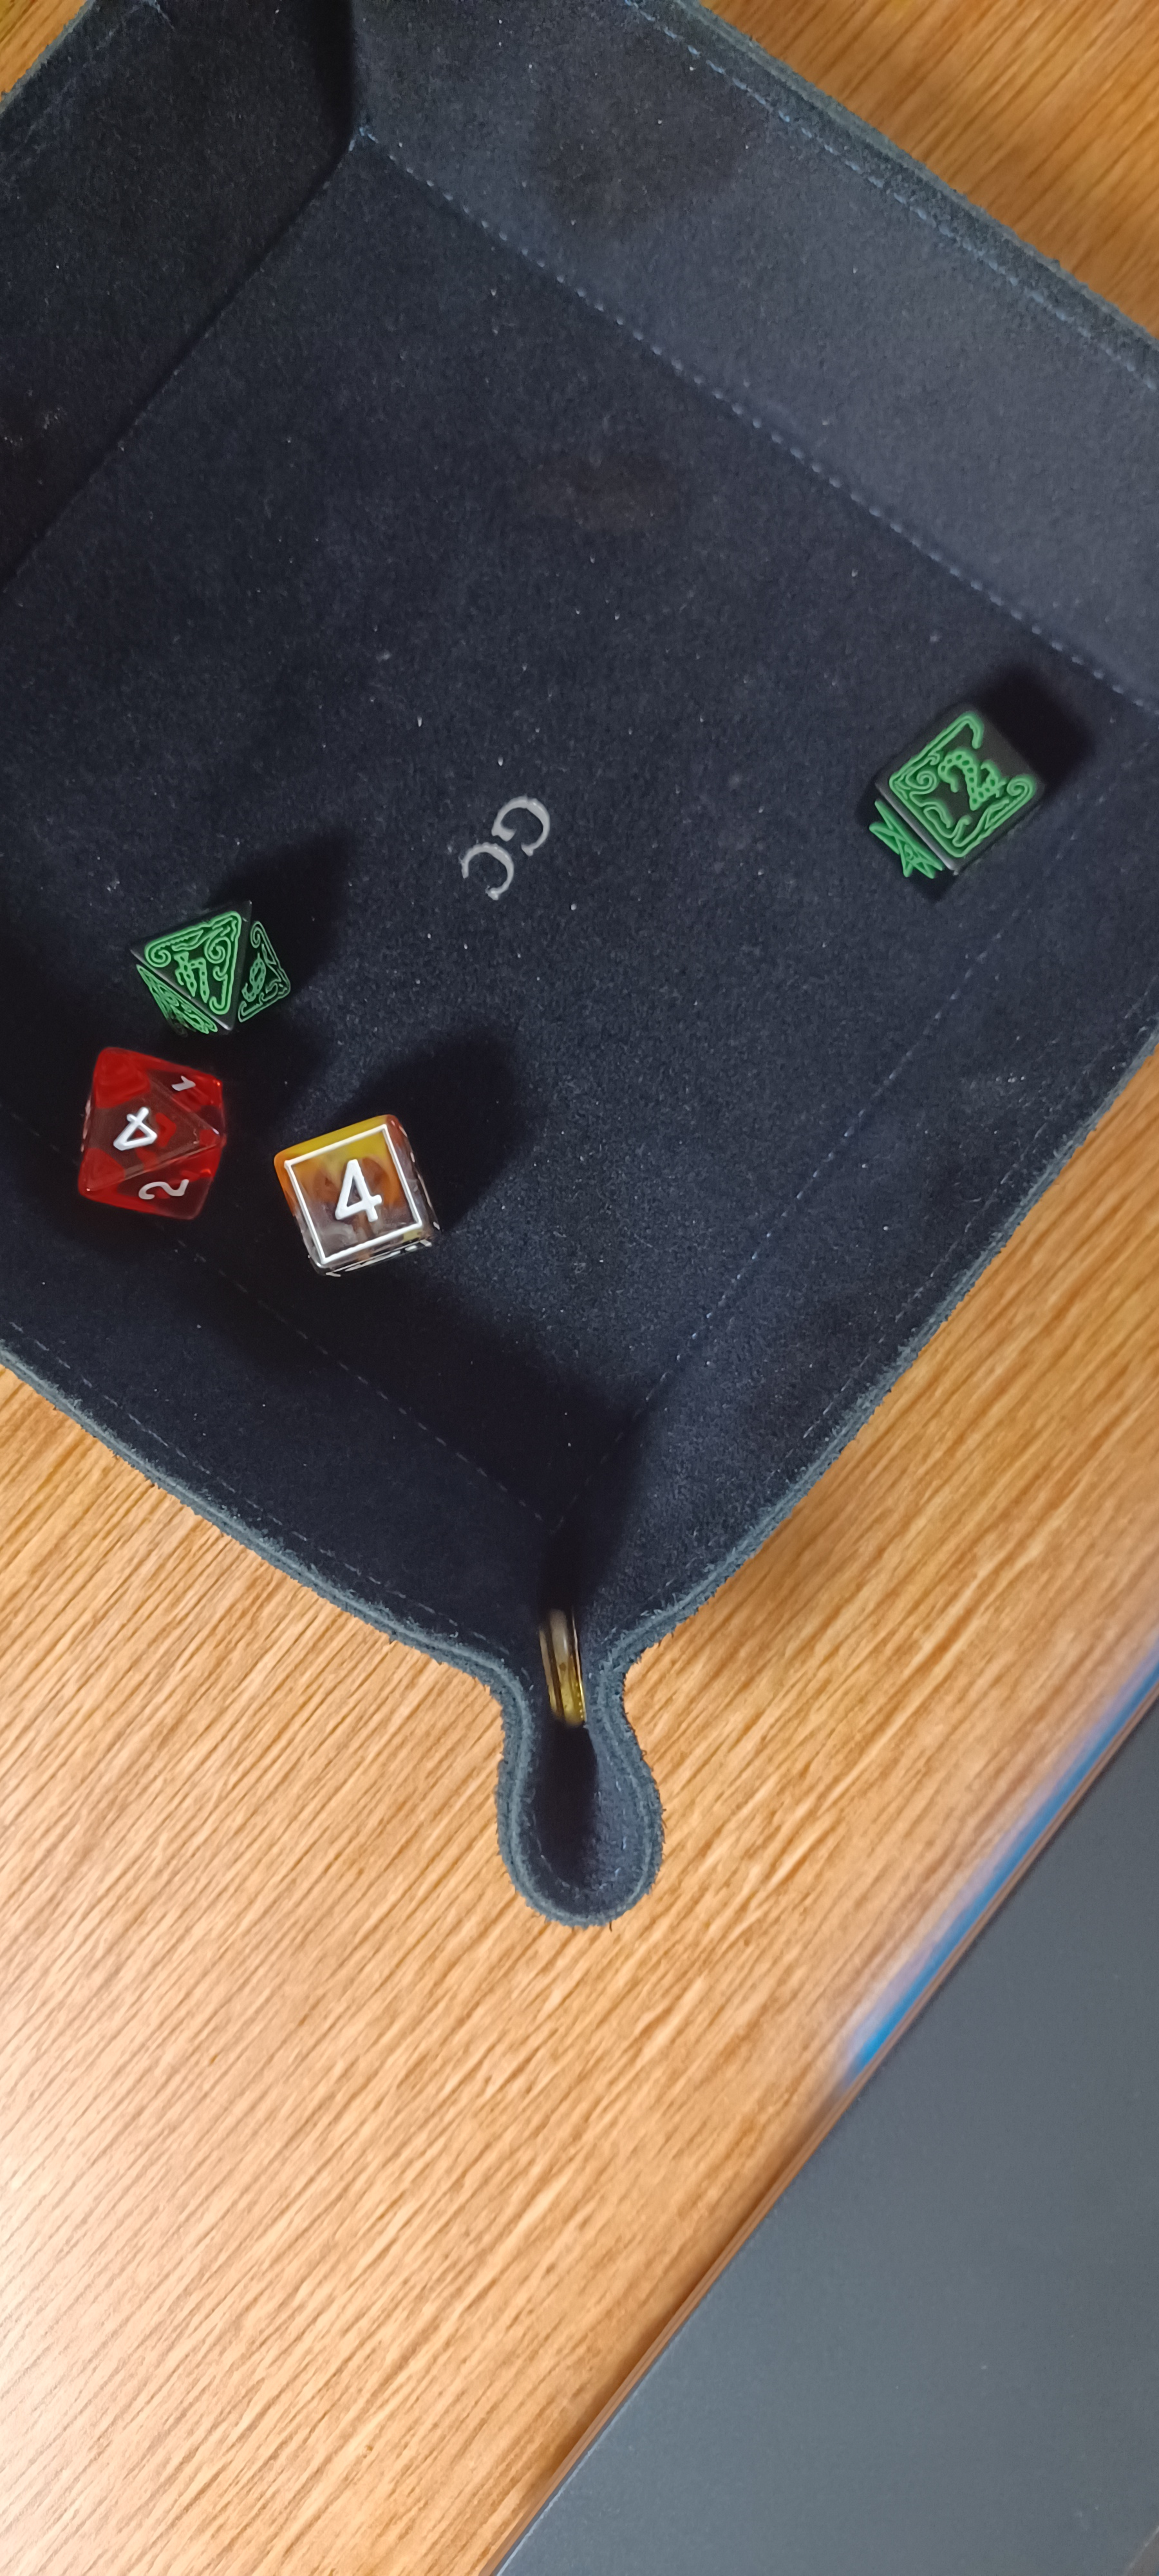four: (31, 1027, 268, 1245), (251, 1097, 474, 1290), (102, 892, 320, 1055)
two: (836, 677, 1067, 912)
